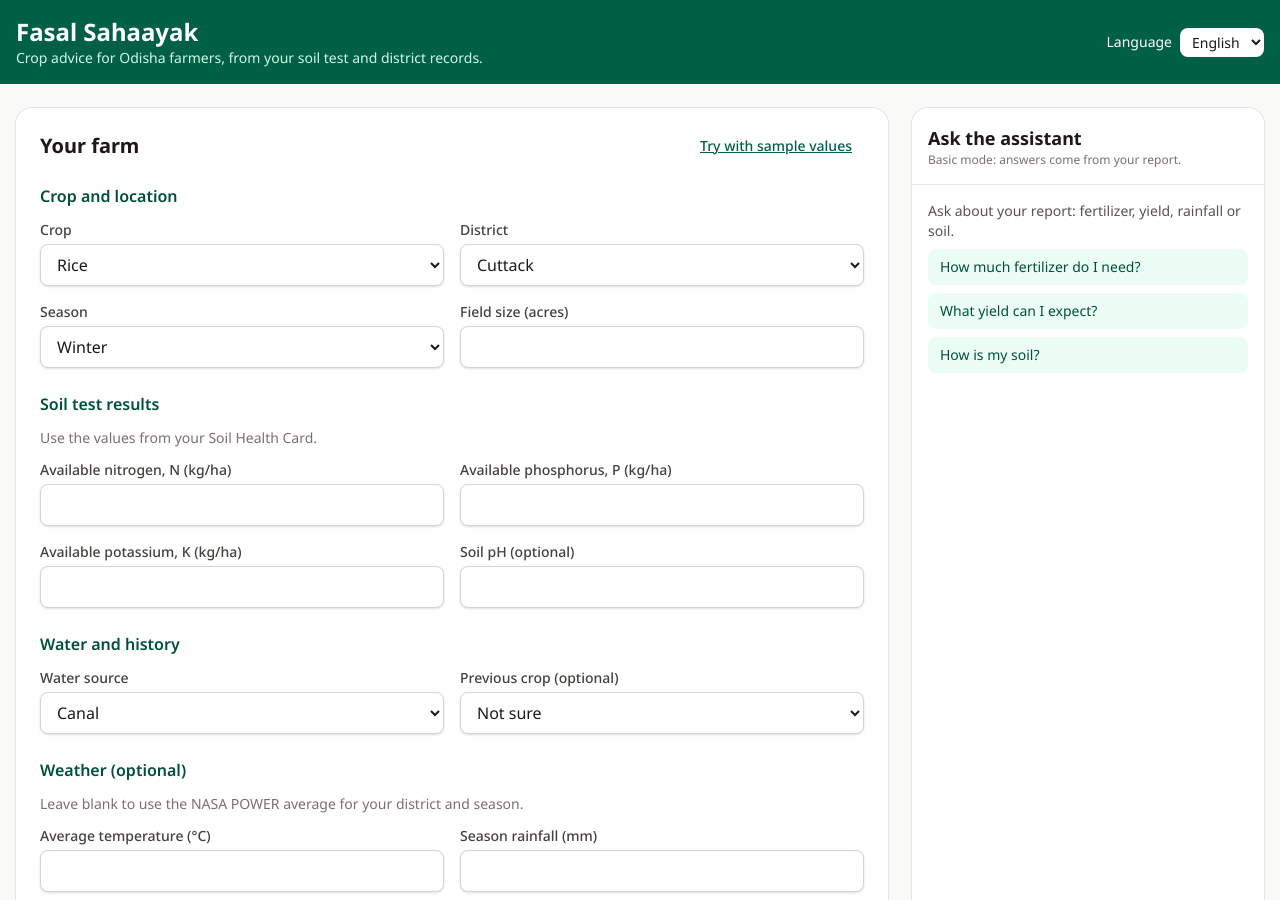
Test: farm report › switches language across the interface
The width and height of the screenshot is (1280, 900).
Select "ଓଡ଼ିଆ" in the dropdown labelled "Language" at point(1222, 42), box [1180,28,1264,56]
(page scrolled)
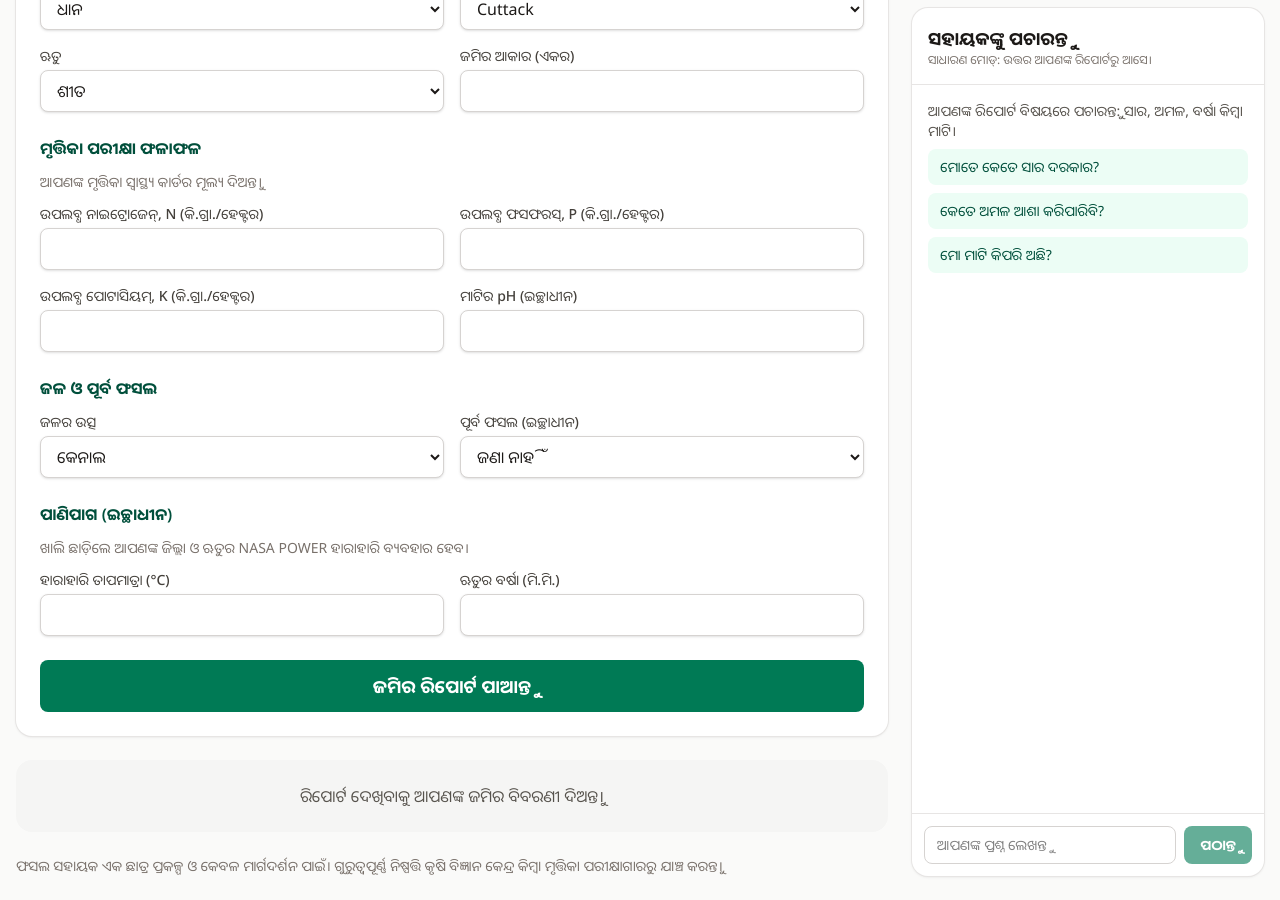
expect the button "ଜମିର ରିପୋର୍ଟ ପାଆନ୍ତୁ" is shown: met, box [40,660,864,712]
